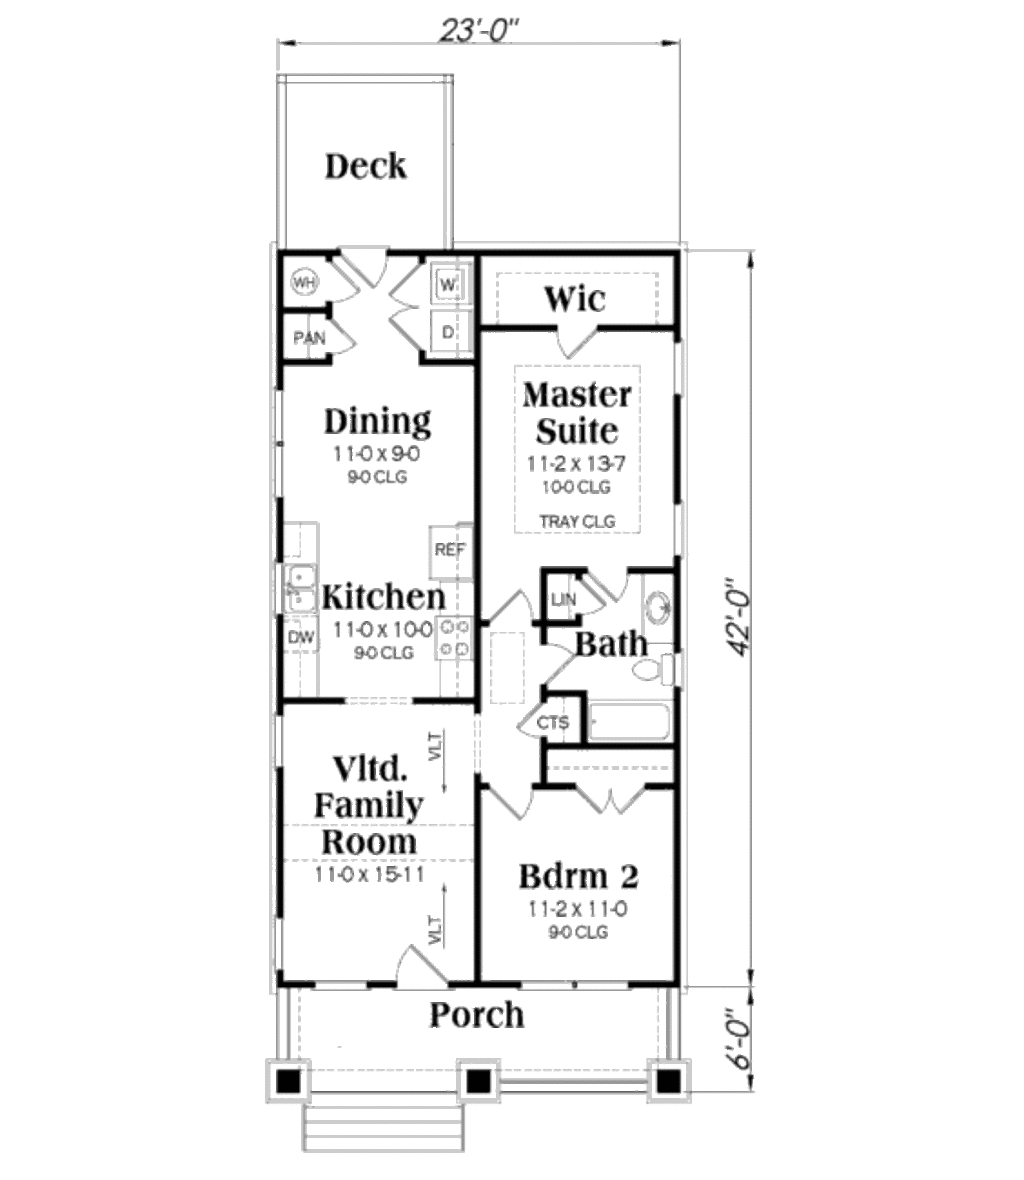door: (389, 256, 431, 354), (342, 242, 400, 298), (484, 589, 553, 636), (573, 782, 655, 820), (478, 773, 540, 823), (387, 942, 442, 993), (585, 563, 636, 603), (311, 314, 358, 356), (553, 318, 604, 354), (538, 633, 571, 685), (516, 696, 553, 742), (569, 580, 607, 620)
large_sink: (611, 645, 715, 691)
small_sink: (638, 576, 685, 647)
tub: (585, 703, 673, 737)
twin_sink: (273, 553, 325, 620)
window: (507, 973, 624, 996), (267, 707, 296, 771), (667, 334, 693, 402), (267, 916, 293, 983), (307, 971, 382, 994), (673, 494, 685, 562)
